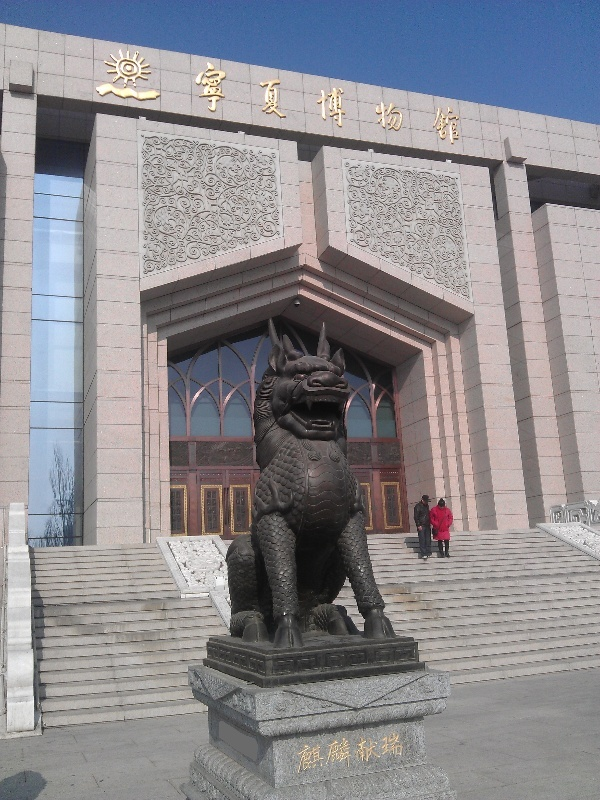text: (209, 61, 224, 147), (225, 61, 240, 147), (241, 61, 256, 147), (257, 61, 272, 147), (273, 61, 288, 147), (289, 61, 304, 147), (305, 61, 320, 147), (321, 61, 336, 147), (337, 61, 352, 147), (353, 61, 368, 147), (369, 61, 384, 147), (385, 61, 400, 147), (401, 61, 416, 147), (417, 61, 432, 147), (433, 61, 448, 147), (194, 61, 208, 147), (449, 61, 463, 147), (305, 729, 320, 776), (321, 729, 336, 776), (337, 729, 352, 776), (353, 729, 368, 776), (369, 729, 384, 776), (385, 729, 400, 776), (293, 729, 304, 776), (401, 729, 405, 776)
